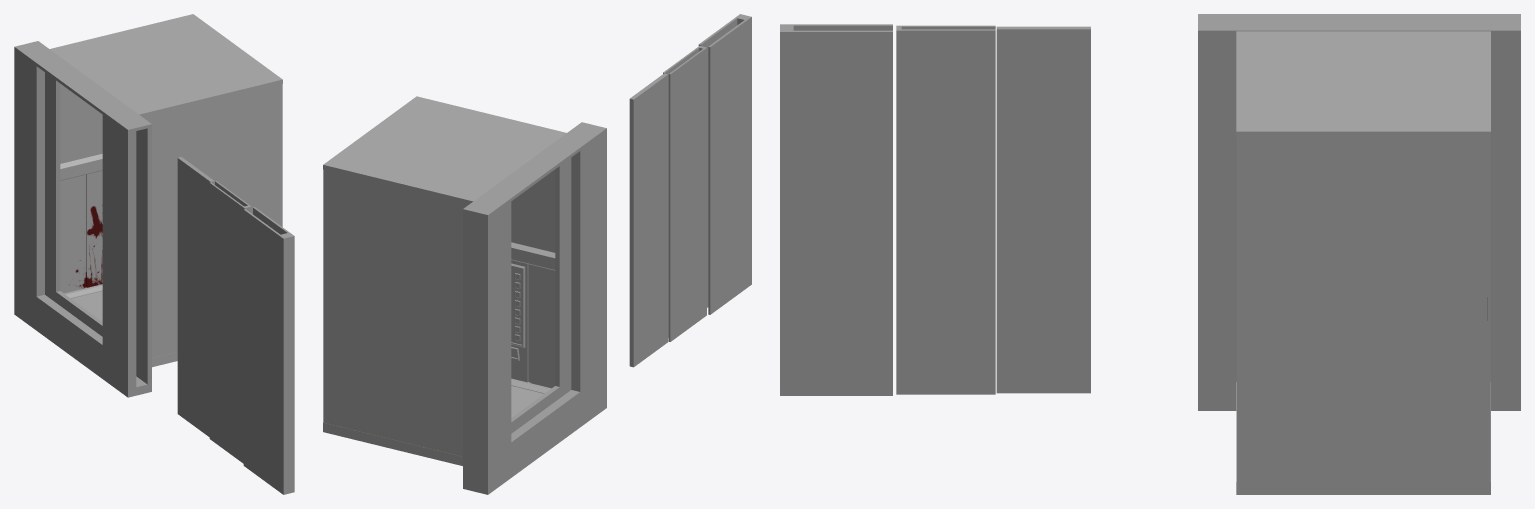
File: LiftScary.fbx
3 views of the same model, side by side, from view 1: azimuth 30°, elevation 25°; view 2: azimuth 150°, elevation 25°; view 3: azimuth 270°, elevation 25° (orthographic). The views are drawn at different scales.
Parts seen in each view (by area): view 1: pCube40, pCube10, pCube14, pCube16, pCube15; view 2: pCube40, pCube10, pCube14, pCube15, pCube16; view 3: pCube40, pCube14, pCube16, pCube15, pCube10.
Part boxes in pixels (x1,y1,x2,y2): pCube40: [50, 14, 282, 367]; pCube10: [14, 41, 151, 397]; pCube14: [243, 207, 294, 494]; pCube16: [209, 181, 251, 463]; pCube15: [177, 157, 214, 436]; pCube40: [323, 96, 566, 465]; pCube10: [463, 122, 606, 494]; pCube14: [698, 14, 751, 314]; pCube15: [629, 73, 668, 367]; pCube16: [663, 46, 706, 341]; pCube40: [1236, 31, 1490, 494]; pCube14: [780, 24, 892, 395]; pCube16: [896, 25, 995, 394]; pCube15: [996, 26, 1090, 393]; pCube10: [1198, 14, 1520, 410].
Size of the model in its own units: 7.07 by 10.75 by 18.98.
